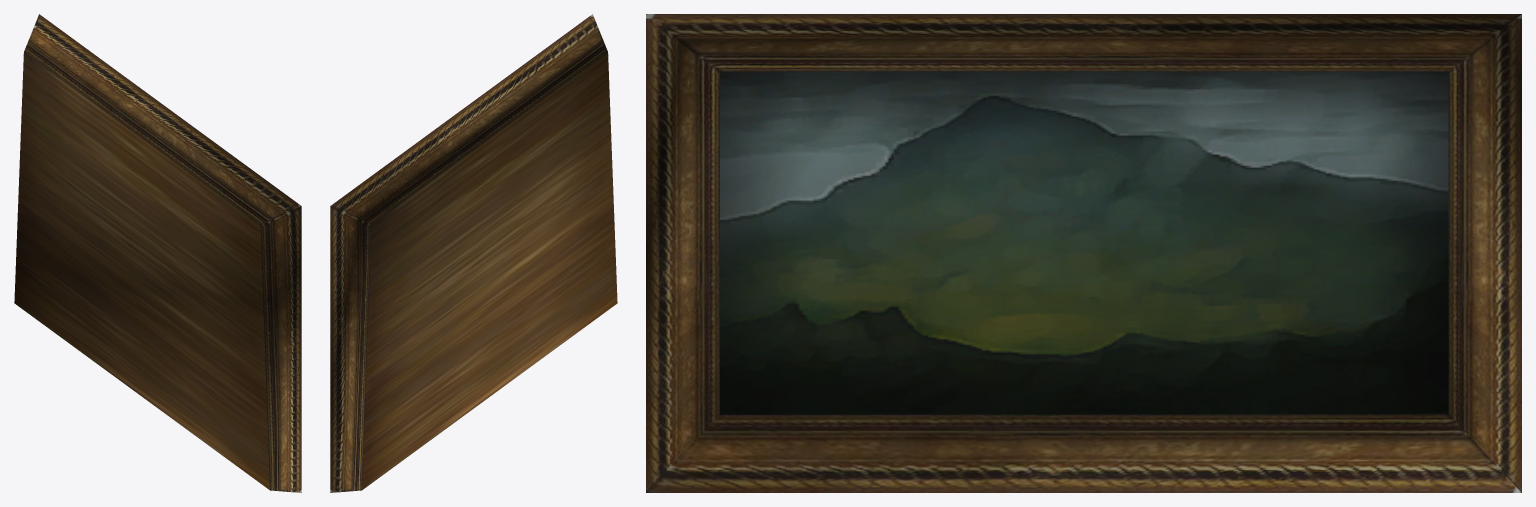
File: stormwindpainting04.obj
3 renders of one model, left to right at view 1: azimuth 30°, elevation 25°; view 2: azimuth 150°, elevation 25°; view 3: azimuth 270°, elevation 25°, orthographic. The views are drawn at different scales.
Parts seen in each view (by area): view 1: stormwindpainting04.m2; view 2: stormwindpainting04.m2; view 3: stormwindpainting04.m2.
Part boxes in pixels (x1,y1,x2,y2): stormwindpainting04.m2: [14, 14, 301, 492]; stormwindpainting04.m2: [330, 14, 617, 492]; stormwindpainting04.m2: [646, 14, 1521, 492].
Size of the model in its own units: 0.24 by 2.34 by 3.87.
1 material, 1 textured.
